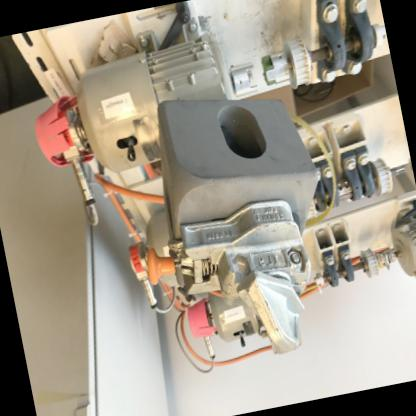CornerCasting: (139, 68, 331, 270)
Twistlock: (128, 189, 334, 383)
